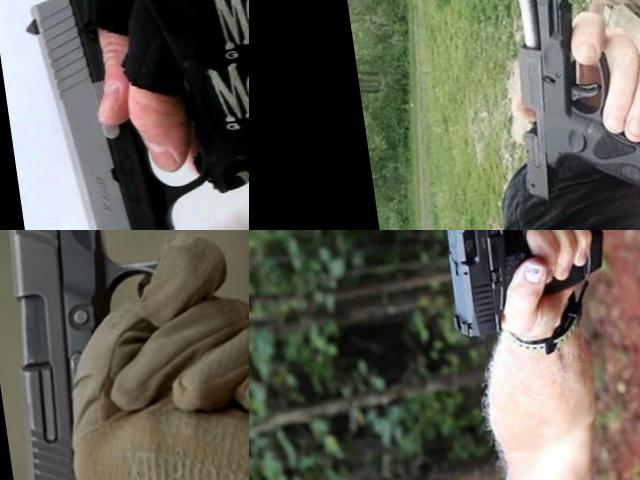handgun: (14, 0, 249, 230), (0, 230, 208, 480), (493, 0, 640, 209), (428, 230, 619, 345)
